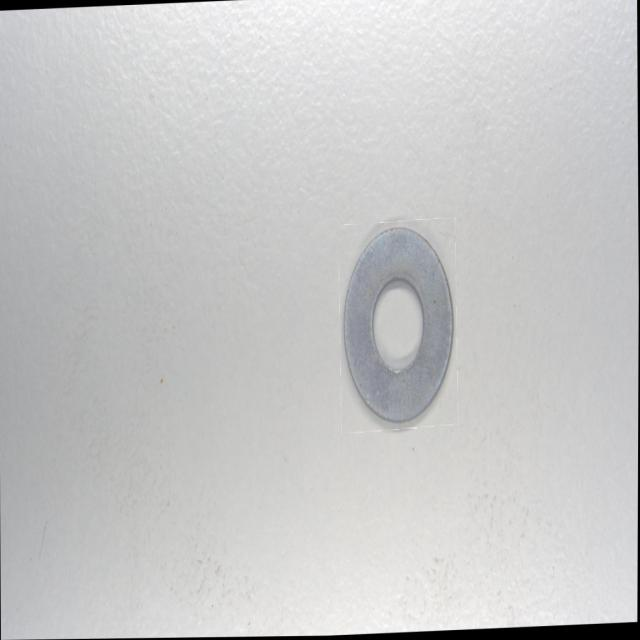washer: (340, 223, 457, 429)
